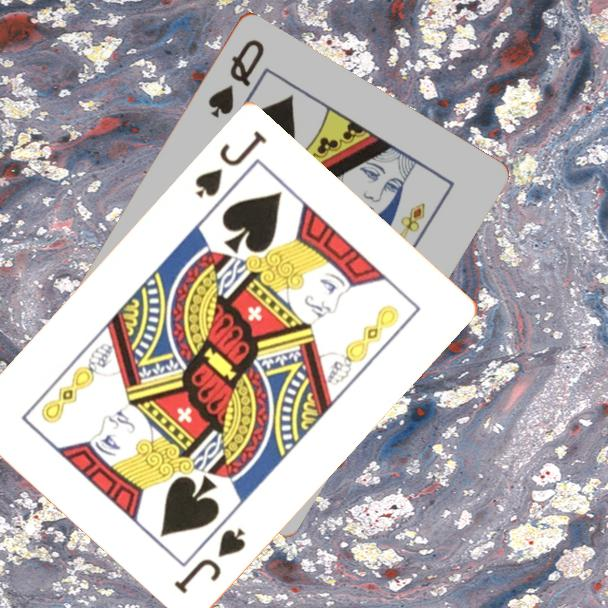s11: (191, 127, 270, 202), (170, 525, 249, 598)
s12: (204, 35, 268, 121)
